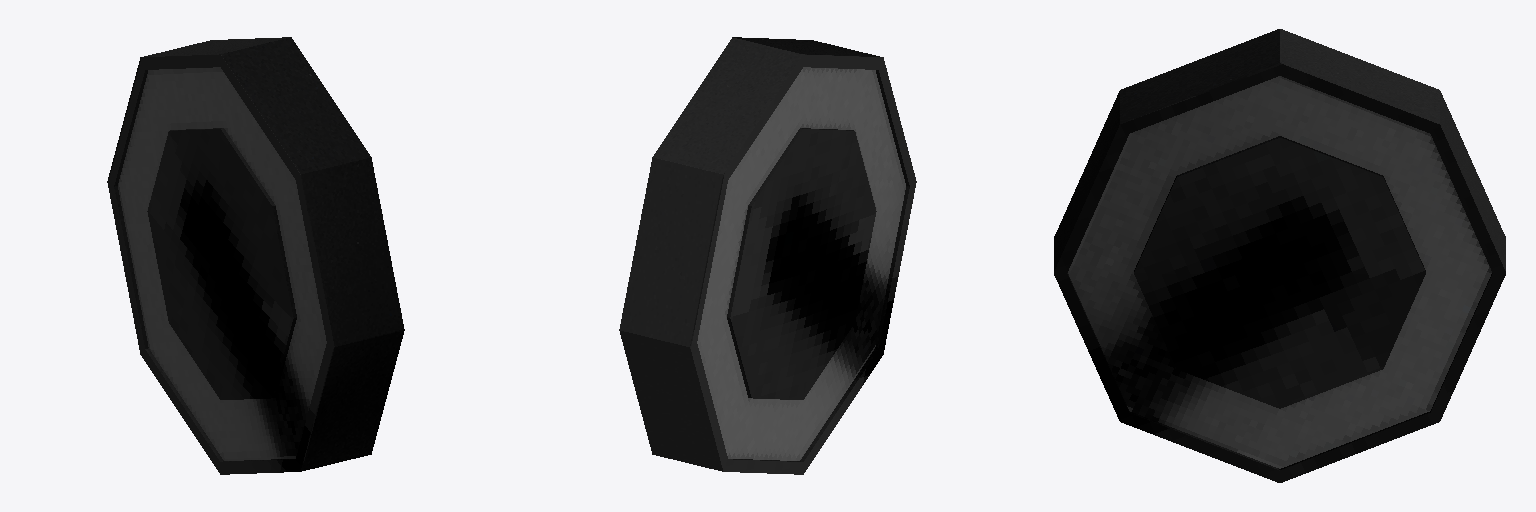
3 renders of one model, left to right at view 1: azimuth 30°, elevation 25°; view 2: azimuth 150°, elevation 25°; view 3: azimuth 270°, elevation 25°, orthographic.
Parts seen in each view (by area): view 1: WheelLeftFront_Cube.005; view 2: WheelLeftFront_Cube.005; view 3: WheelLeftFront_Cube.005.
Part boxes in pixels (x1,y1,x2,y2): WheelLeftFront_Cube.005: (107, 37, 404, 474); WheelLeftFront_Cube.005: (619, 37, 916, 474); WheelLeftFront_Cube.005: (1054, 29, 1505, 482).
Size of the model in its own units: 0.0248 by 0.1257 by 0.1227.
Materials: 1 (1 with a texture image).